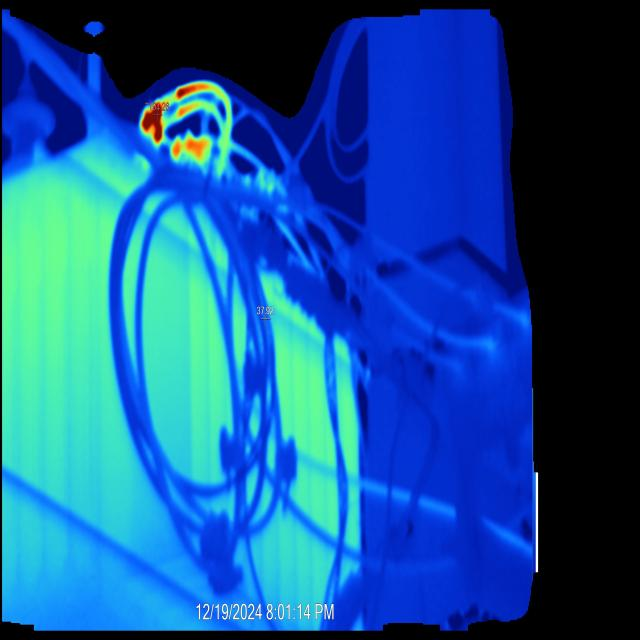Full Wire Overload PF: (171, 81, 230, 173)
Loose Joint F: (169, 133, 211, 162), (141, 101, 169, 143)
